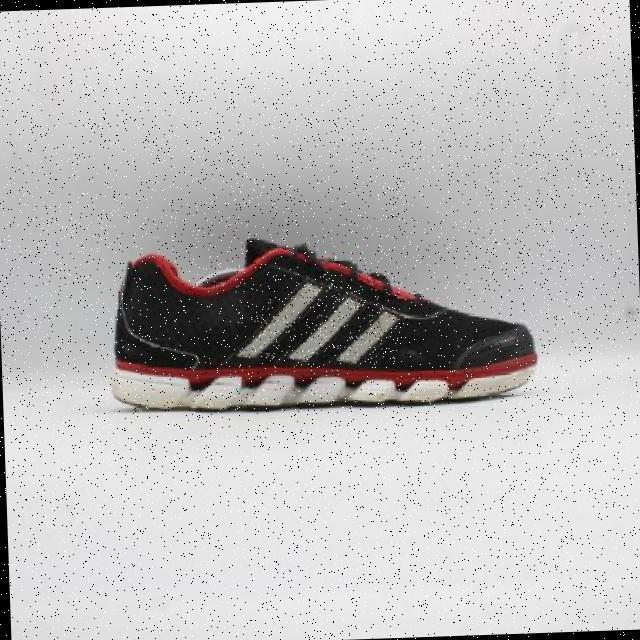Adidas: (234, 271, 402, 369)
